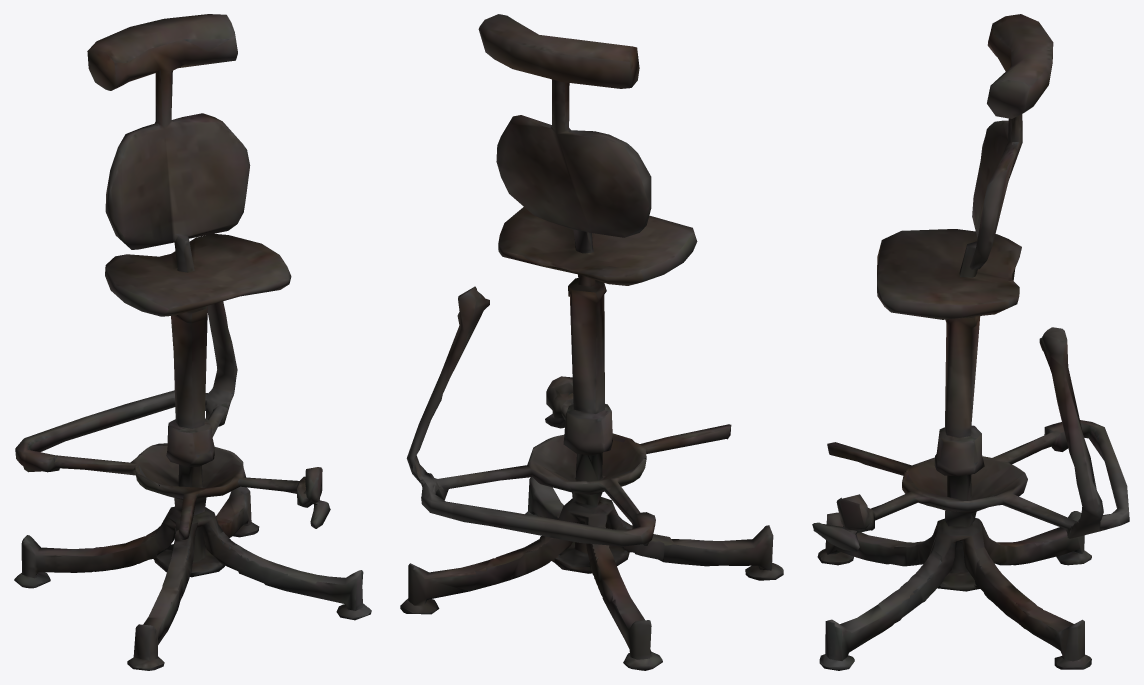
The model's file is rustic-iron-examination-chair-v002.glb.
3 views of the same model, side by side, from view 1: azimuth 30°, elevation 25°; view 2: azimuth 150°, elevation 25°; view 3: azimuth 270°, elevation 25° (orthographic). The views are drawn at different scales.
Parts seen in each view (by area): view 1: rustic-iron-examination-chair; view 2: rustic-iron-examination-chair; view 3: rustic-iron-examination-chair.
Boxes of the visible parts, left/top/right/bottom form: rustic-iron-examination-chair: left=14, top=14, right=371, bottom=670; rustic-iron-examination-chair: left=400, top=14, right=783, bottom=670; rustic-iron-examination-chair: left=812, top=14, right=1129, bottom=670.
Size of the model in its own units: 0.5111 by 1.11 by 0.5645.
1 material, 1 textured.
